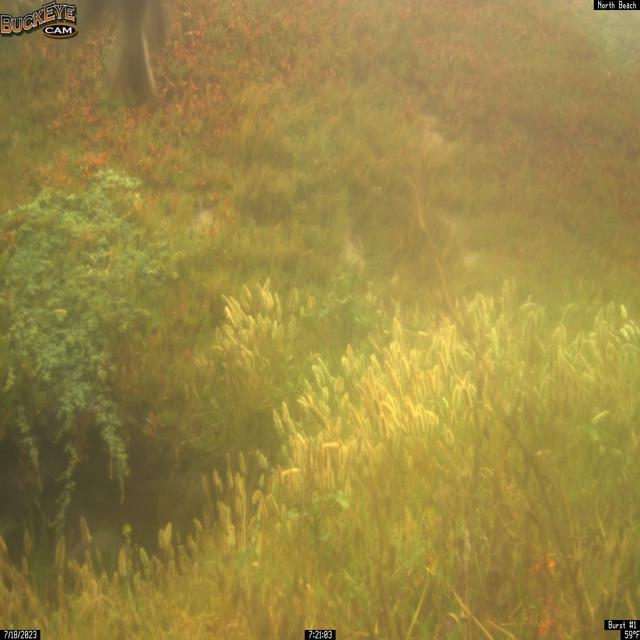bird: (77, 0, 175, 110)
